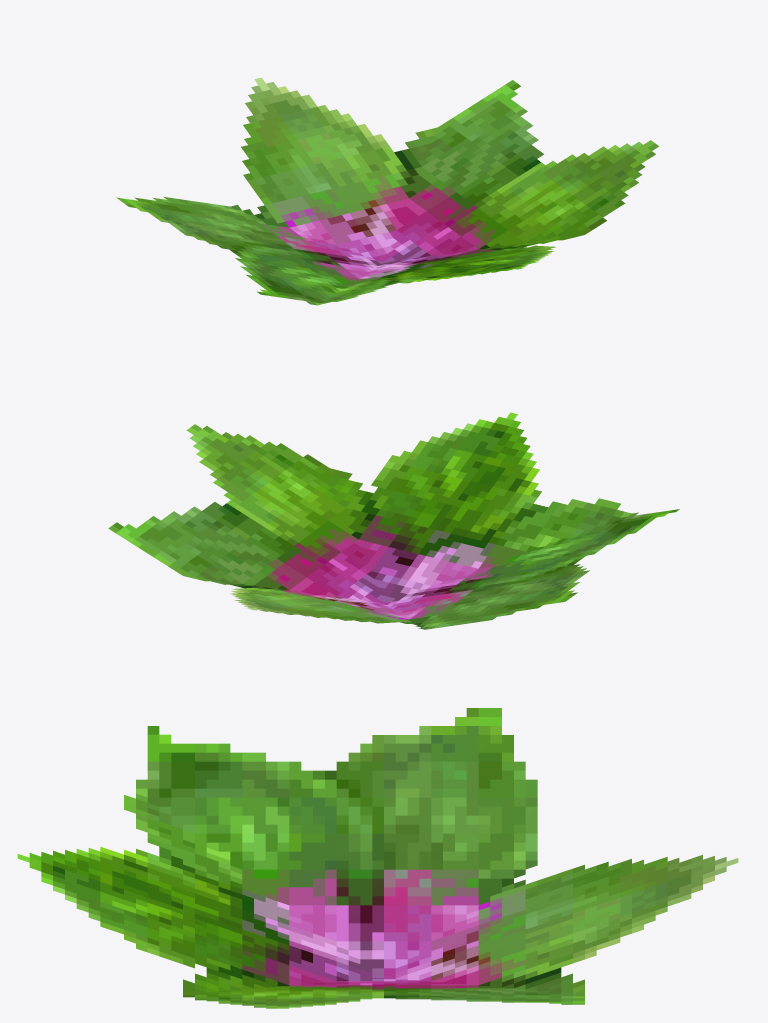
The model's file is grass_03m.glb.
3 views of the same model, one above another, from view 1: azimuth 30°, elevation 25°; view 2: azimuth 150°, elevation 25°; view 3: azimuth 270°, elevation 25° (orthographic). The views are drawn at different scales.
Parts seen in each view (by area): view 1: grass_03m; view 2: grass_03m; view 3: grass_03m.
Boxes of the visible parts, <box> form: grass_03m: <box>116,77,658,305</box>; grass_03m: <box>108,412,679,629</box>; grass_03m: <box>17,708,738,1008</box>.
Bounding box in the file's own units: 0.9645 × 0.1795 × 0.9644.
1 material, 1 textured.
